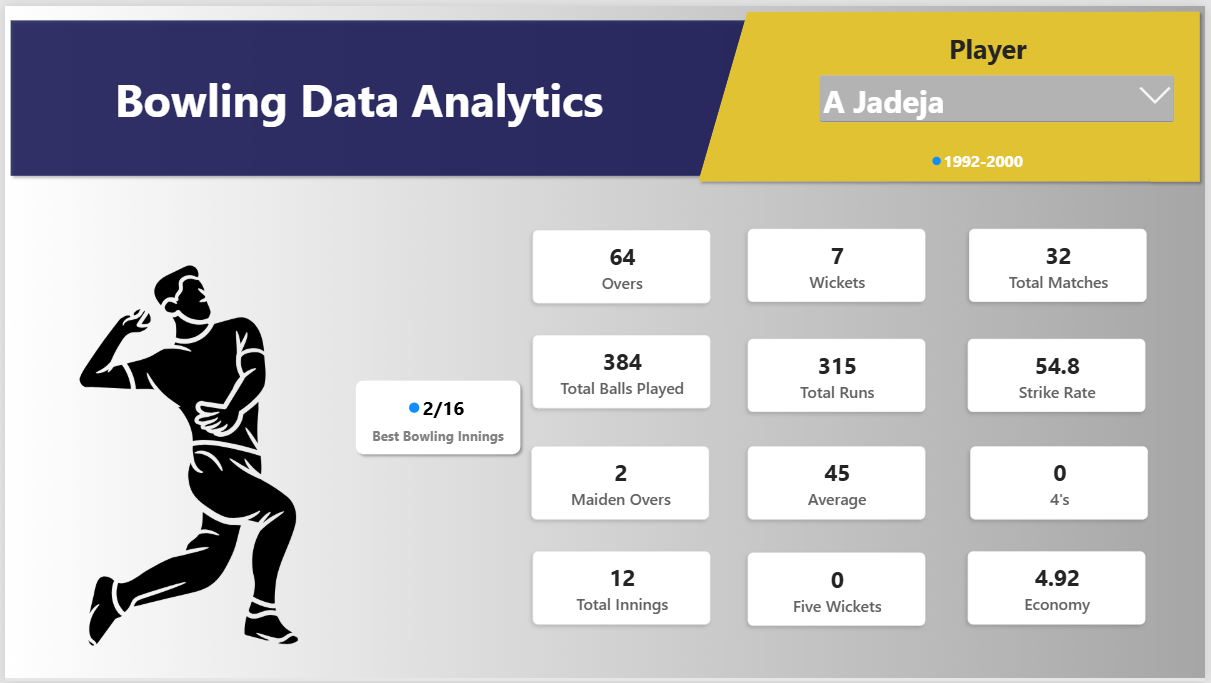

What the dashboard file says about the page in this screenshot:
{"tool":"powerbi","page":{"name":"Bowling","canvas":[1920,1080],"ordinal":1},"visuals":[{"type":"group","id":"g1","title":"Group 1","box":[0,0,1920,290],"z":0},{"type":"shape","box":[0,13.3,1226.7,266.7],"z":0,"group":"g1"},{"type":"shape","box":[1100,0,818,290],"z":1000,"group":"g1"},{"type":"slicer","fields":{"Values":["Bowling.Player"]},"box":[1297.5,105,577.5,105],"z":1000},{"type":"shape","box":[1821.4,0,98.6,290],"z":2000,"group":"g1"},{"type":"textbox","box":[1430,37.5,285,67.5],"z":2000},{"type":"textbox","box":[113.3,100,905,117.5],"z":3000},{"type":"treemap","fields":{"Group":["Bowling.Span"]},"box":[1430,211.4,256.2,55],"z":4000},{"type":"cardVisual","fields":{"Data":["Sum(Bowling.SR)"]},"box":[1530,522,305.5,138],"z":5000},{"type":"cardVisual","fields":{"Data":["Sum(Bowling.Wkts)"]},"box":[1178,346,305.5,138],"z":6000},{"type":"cardVisual","fields":{"Data":["Sum(Bowling.Overs)"]},"box":[834,348,305.5,138],"z":7000},{"type":"cardVisual","fields":{"Data":["Sum(Bowling.Mat)"]},"box":[1532,346,305.5,138],"z":8000},{"type":"cardVisual","fields":{"Data":["Sum(Bowling.Inns)"]},"box":[834,862,305.5,138],"z":9000},{"type":"cardVisual","fields":{"Data":["Sum(Bowling.4)"]},"box":[1533.1,693.9,305.5,138],"z":10000},{"type":"cardVisual","fields":{"Data":["Sum(Bowling.Mdns)"]},"box":[831.9,693.9,305.5,138],"z":11000},{"type":"cardVisual","fields":{"Data":["Sum(Bowling.Ave)"]},"box":[1177.9,693.9,305.5,138],"z":12000},{"type":"cardVisual","fields":{"Data":["Bowling.Total Runs"]},"box":[1178,522,305.5,138],"z":13000},{"type":"cardVisual","fields":{"Data":["Sum(Bowling.Econ)"]},"box":[1530,862,305.5,138],"z":14000},{"type":"cardVisual","fields":{"Data":["Sum(Bowling.5)"]},"box":[1177.9,863.2,305.5,138],"z":15000},{"type":"cardVisual","fields":{"Data":["Bowling.Total Balls"]},"box":[834,516,305.5,138],"z":16000},{"type":"shape","box":[552.2,590.8,281.6,136.2],"z":17000},{"type":"treemap","fields":{"Group":["Bowling.BBI"]},"box":[626,604,178,68],"z":18000},{"type":"textbox","box":[582,672,222,42],"z":19000}]}

Visuals, with their boxes in screenshot pixels (x1, y1, x2, y2), scaled from the page's 1920x1080 canvas onto the 1211x683 screenshot:
"Group 1" group: {"left": 0, "top": 0, "right": 1210, "bottom": 183}
shape: {"left": 0, "top": 8, "right": 774, "bottom": 177}
shape: {"left": 694, "top": 0, "right": 1210, "bottom": 183}
slicer - Bowling.Player: {"left": 818, "top": 66, "right": 1183, "bottom": 133}
shape: {"left": 1149, "top": 0, "right": 1210, "bottom": 183}
textbox: {"left": 902, "top": 24, "right": 1082, "bottom": 66}
textbox: {"left": 71, "top": 63, "right": 642, "bottom": 138}
treemap - Bowling.Span: {"left": 902, "top": 134, "right": 1064, "bottom": 168}
cardVisual - Sum(Bowling.SR): {"left": 965, "top": 330, "right": 1158, "bottom": 417}
cardVisual - Sum(Bowling.Wkts): {"left": 743, "top": 219, "right": 936, "bottom": 306}
cardVisual - Sum(Bowling.Overs): {"left": 526, "top": 220, "right": 719, "bottom": 307}
cardVisual - Sum(Bowling.Mat): {"left": 966, "top": 219, "right": 1159, "bottom": 306}
cardVisual - Sum(Bowling.Inns): {"left": 526, "top": 545, "right": 719, "bottom": 632}
cardVisual - Sum(Bowling.4): {"left": 967, "top": 439, "right": 1160, "bottom": 526}
cardVisual - Sum(Bowling.Mdns): {"left": 525, "top": 439, "right": 717, "bottom": 526}
cardVisual - Sum(Bowling.Ave): {"left": 743, "top": 439, "right": 936, "bottom": 526}
cardVisual - Bowling.Total Runs: {"left": 743, "top": 330, "right": 936, "bottom": 417}
cardVisual - Sum(Bowling.Econ): {"left": 965, "top": 545, "right": 1158, "bottom": 632}
cardVisual - Sum(Bowling.5): {"left": 743, "top": 546, "right": 936, "bottom": 633}
cardVisual - Bowling.Total Balls: {"left": 526, "top": 326, "right": 719, "bottom": 414}
shape: {"left": 348, "top": 374, "right": 526, "bottom": 460}
treemap - Bowling.BBI: {"left": 395, "top": 382, "right": 507, "bottom": 425}
textbox: {"left": 367, "top": 425, "right": 507, "bottom": 452}
